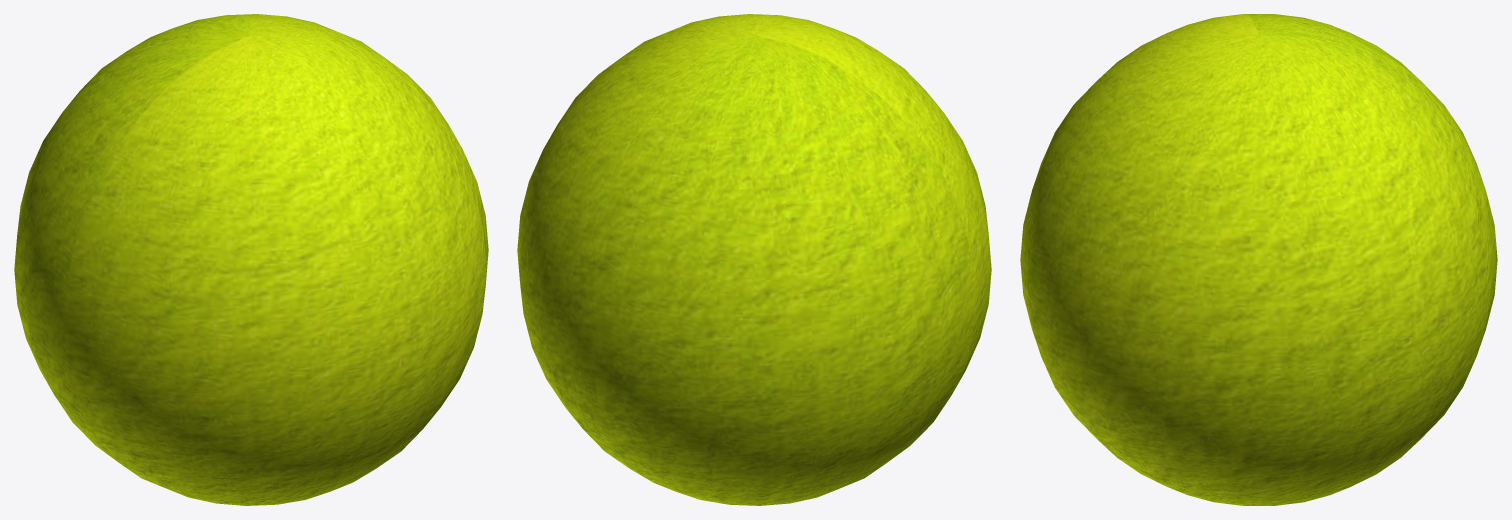
File: Ball.fbx
The picture shows the model from 3 angles, left to right: view 1: azimuth 30°, elevation 25°; view 2: azimuth 150°, elevation 25°; view 3: azimuth 270°, elevation 25°; orthographic projection.
Parts seen in each view (by area): view 1: Sphere; view 2: Sphere; view 3: Sphere.
Boxes of the visible parts, <box> form: Sphere: <box>14,14,488,505</box>; Sphere: <box>517,14,991,505</box>; Sphere: <box>1020,14,1497,505</box>.
Size of the model in its own units: 186 by 194 by 184.
Materials: 1 (1 with a texture image).
